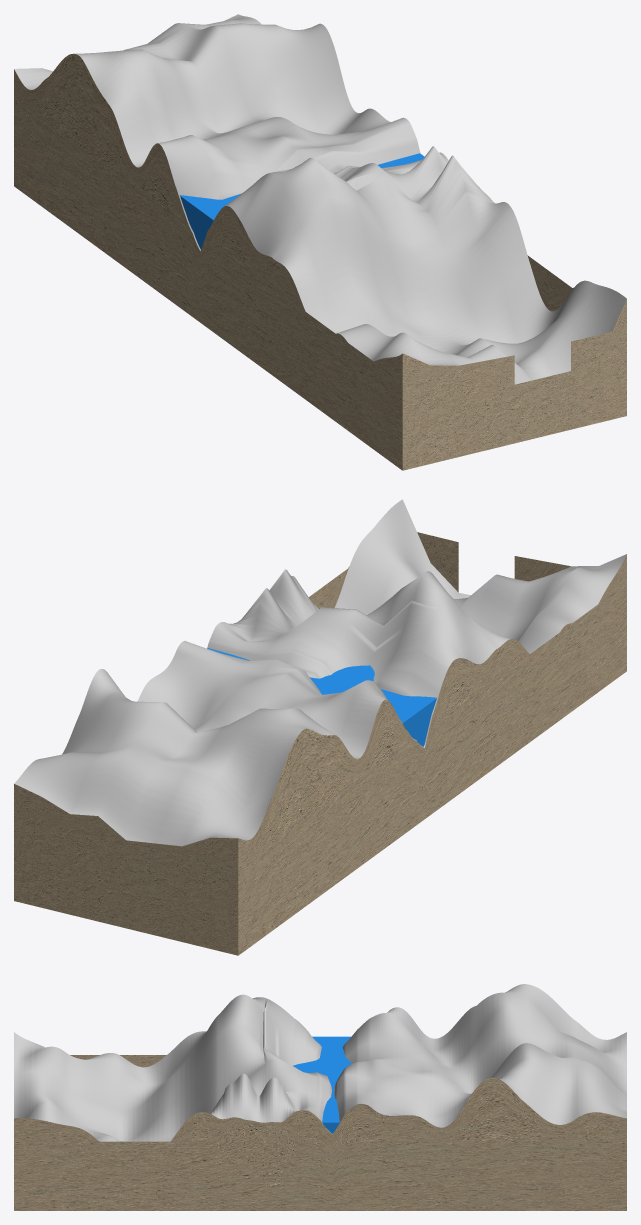
Rendered from V字形河谷.gltf.
3 renders of one model, top to bottom at view 1: azimuth 30°, elevation 25°; view 2: azimuth 150°, elevation 25°; view 3: azimuth 270°, elevation 25°, orthographic. The views are drawn at different scales.
Parts seen in each view (by area): view 1: node_V_-2740, node_Plane_-2752, node_Plane_-2750; view 2: node_V_-2740, node_Plane_-2752, node_Plane_-2750; view 3: node_V_-2740, node_Plane_-2752.
Boxes of the visible parts, x1,y1,x2,y2 form: node_V_-2740: (14, 14, 626, 470); node_Plane_-2752: (179, 153, 424, 220); node_Plane_-2750: (180, 196, 213, 249); node_V_-2740: (14, 499, 626, 955); node_Plane_-2752: (207, 648, 437, 722); node_Plane_-2750: (403, 698, 436, 746); node_V_-2740: (14, 984, 626, 1210); node_Plane_-2752: (293, 1036, 351, 1122).
Bounding box in the file's own units: 2.54 × 2.08 × 7.62.
